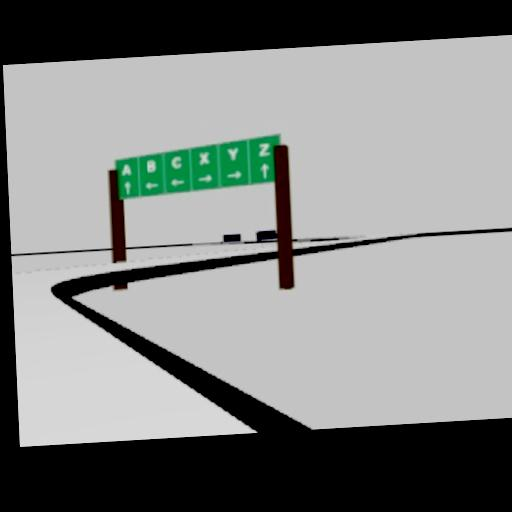A: (121, 162, 131, 176)
B: (145, 159, 156, 172)
C: (170, 154, 183, 168)
Left: (169, 178, 186, 188), (144, 181, 159, 190)
Right: (196, 174, 213, 184), (227, 171, 242, 180)
Straight: (258, 163, 270, 181), (123, 179, 134, 195)
X: (198, 151, 209, 164)
Y: (226, 146, 239, 160)
Z: (258, 143, 271, 157)
